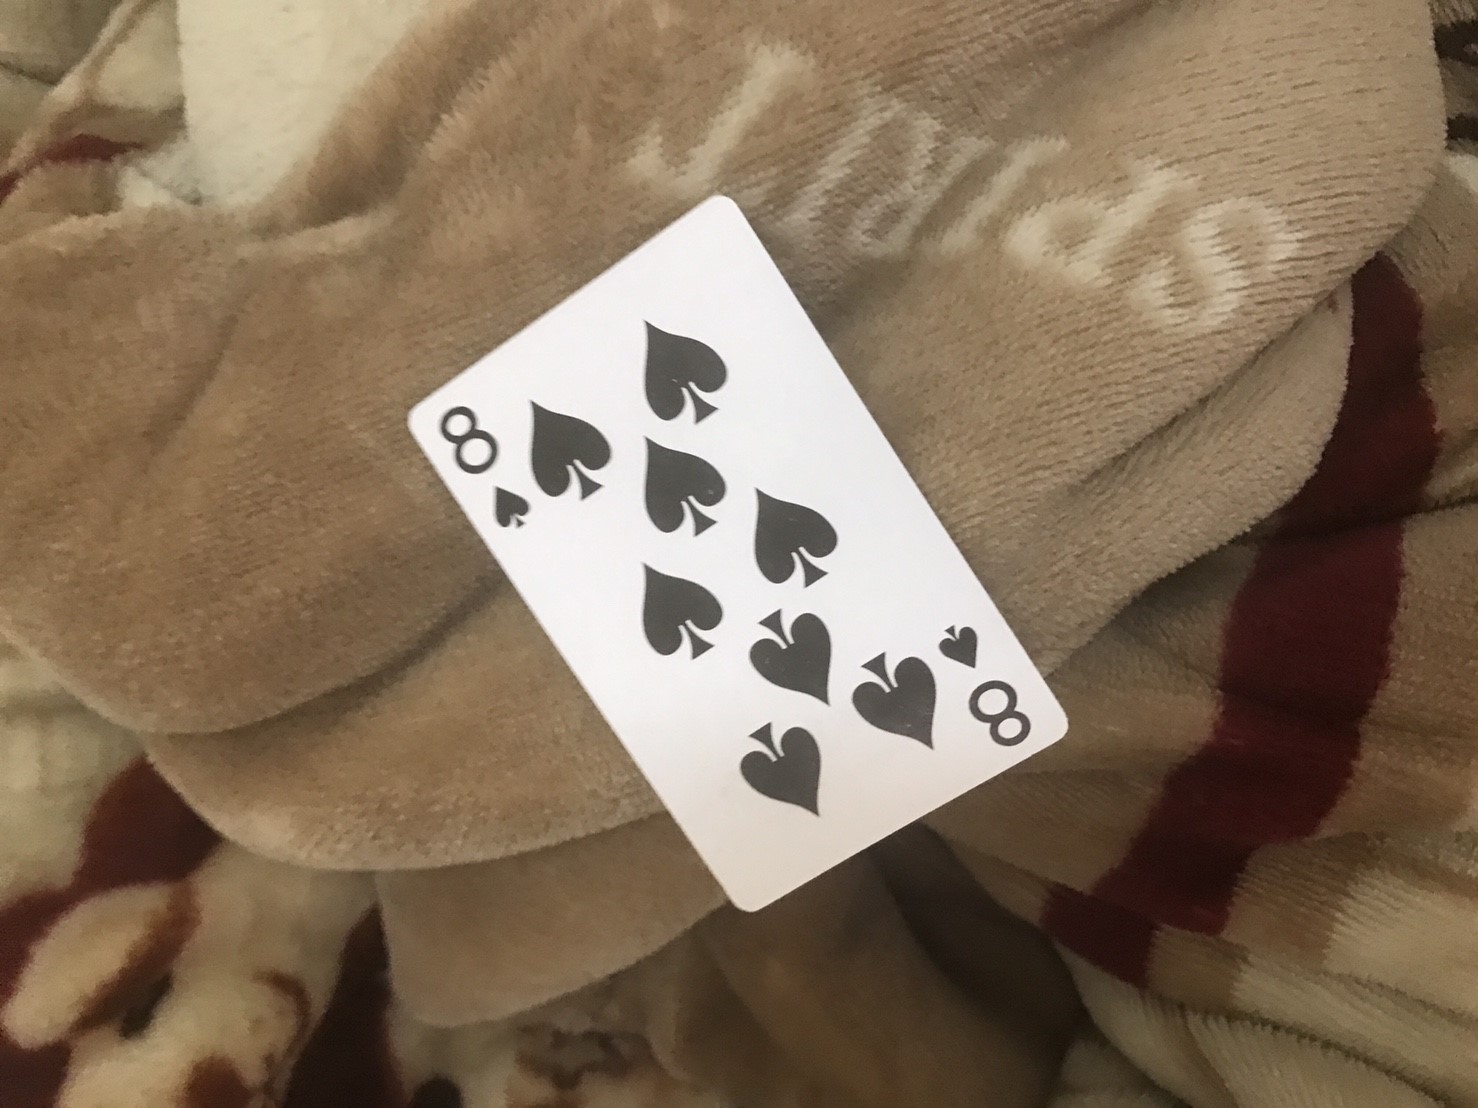spades: (632, 436, 741, 547), (638, 315, 741, 426), (739, 604, 841, 711), (746, 486, 850, 591), (523, 395, 617, 504), (632, 557, 724, 661), (850, 652, 941, 751), (738, 723, 832, 816), (931, 611, 982, 668), (491, 484, 537, 534)
